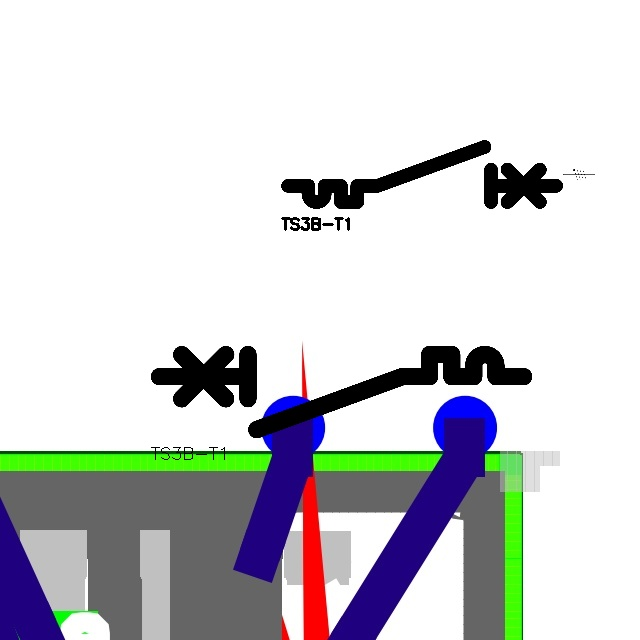interruptor_termomagnetico: (150, 345, 533, 438), (281, 140, 563, 209)
